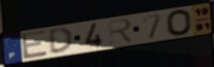4: (84, 22, 106, 49)
7: (141, 12, 163, 40)
D: (47, 26, 75, 55)
E: (19, 29, 49, 61)
O: (164, 9, 194, 38)
R: (106, 17, 136, 46)
